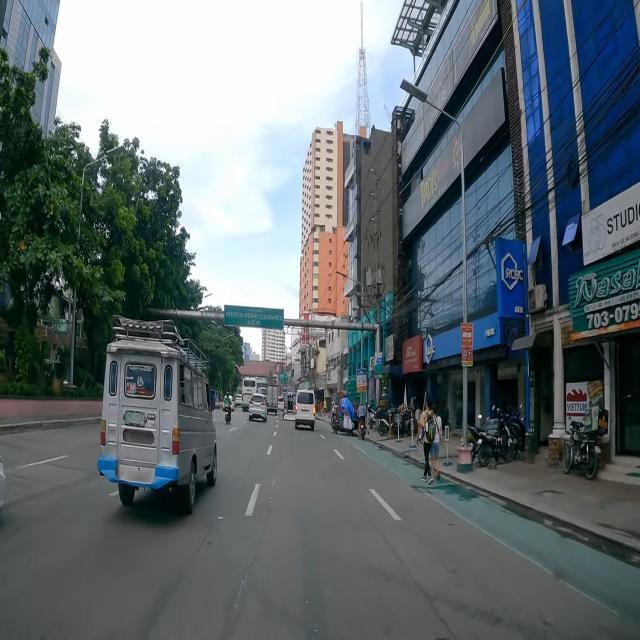bus: (241, 378, 257, 411), (260, 387, 267, 395)
car: (98, 316, 216, 514), (248, 394, 268, 422)
jeepney: (284, 392, 296, 421)
motorcycle: (562, 406, 608, 480), (476, 418, 513, 466), (468, 405, 498, 462), (503, 412, 526, 450), (357, 402, 367, 439), (378, 419, 398, 437), (398, 417, 416, 437), (223, 392, 232, 424), (368, 406, 376, 430)
tricycle: (330, 396, 354, 434)
truck: (267, 384, 278, 416)
